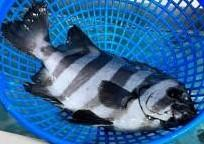fish: (1, 0, 197, 133)
